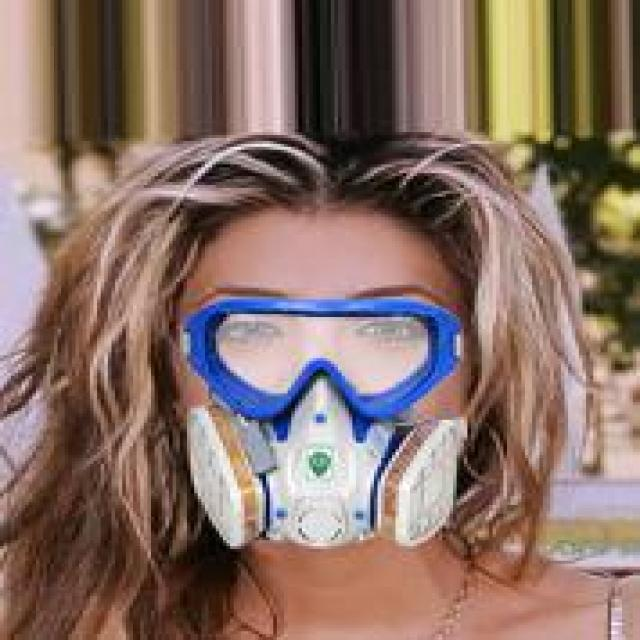mask: (40, 91, 582, 575)
